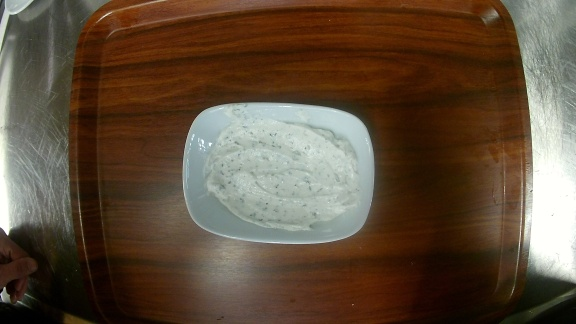haydari: (181, 101, 376, 243)
